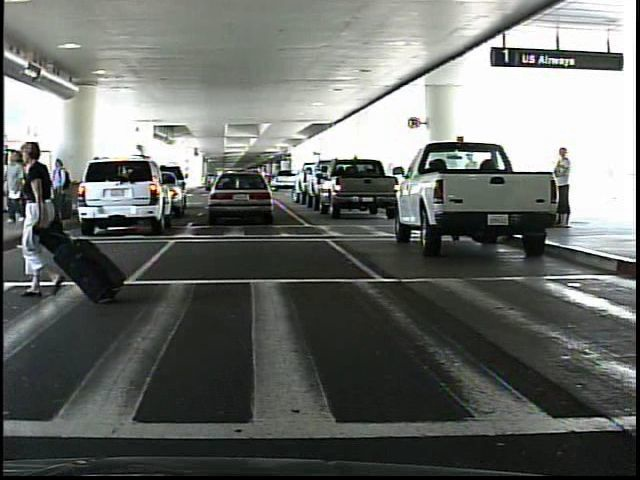person: (12, 142, 71, 291), (540, 149, 577, 229), (4, 152, 29, 225), (47, 157, 69, 223)
